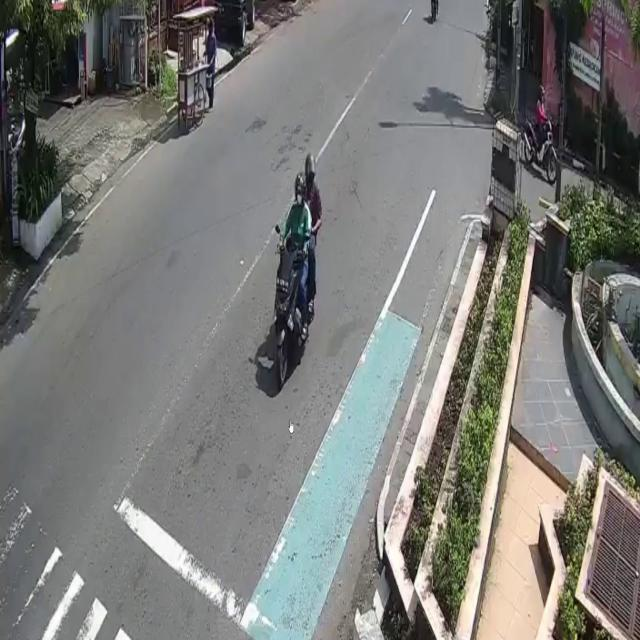motorbike: (276, 245, 300, 389), (524, 108, 559, 190)
